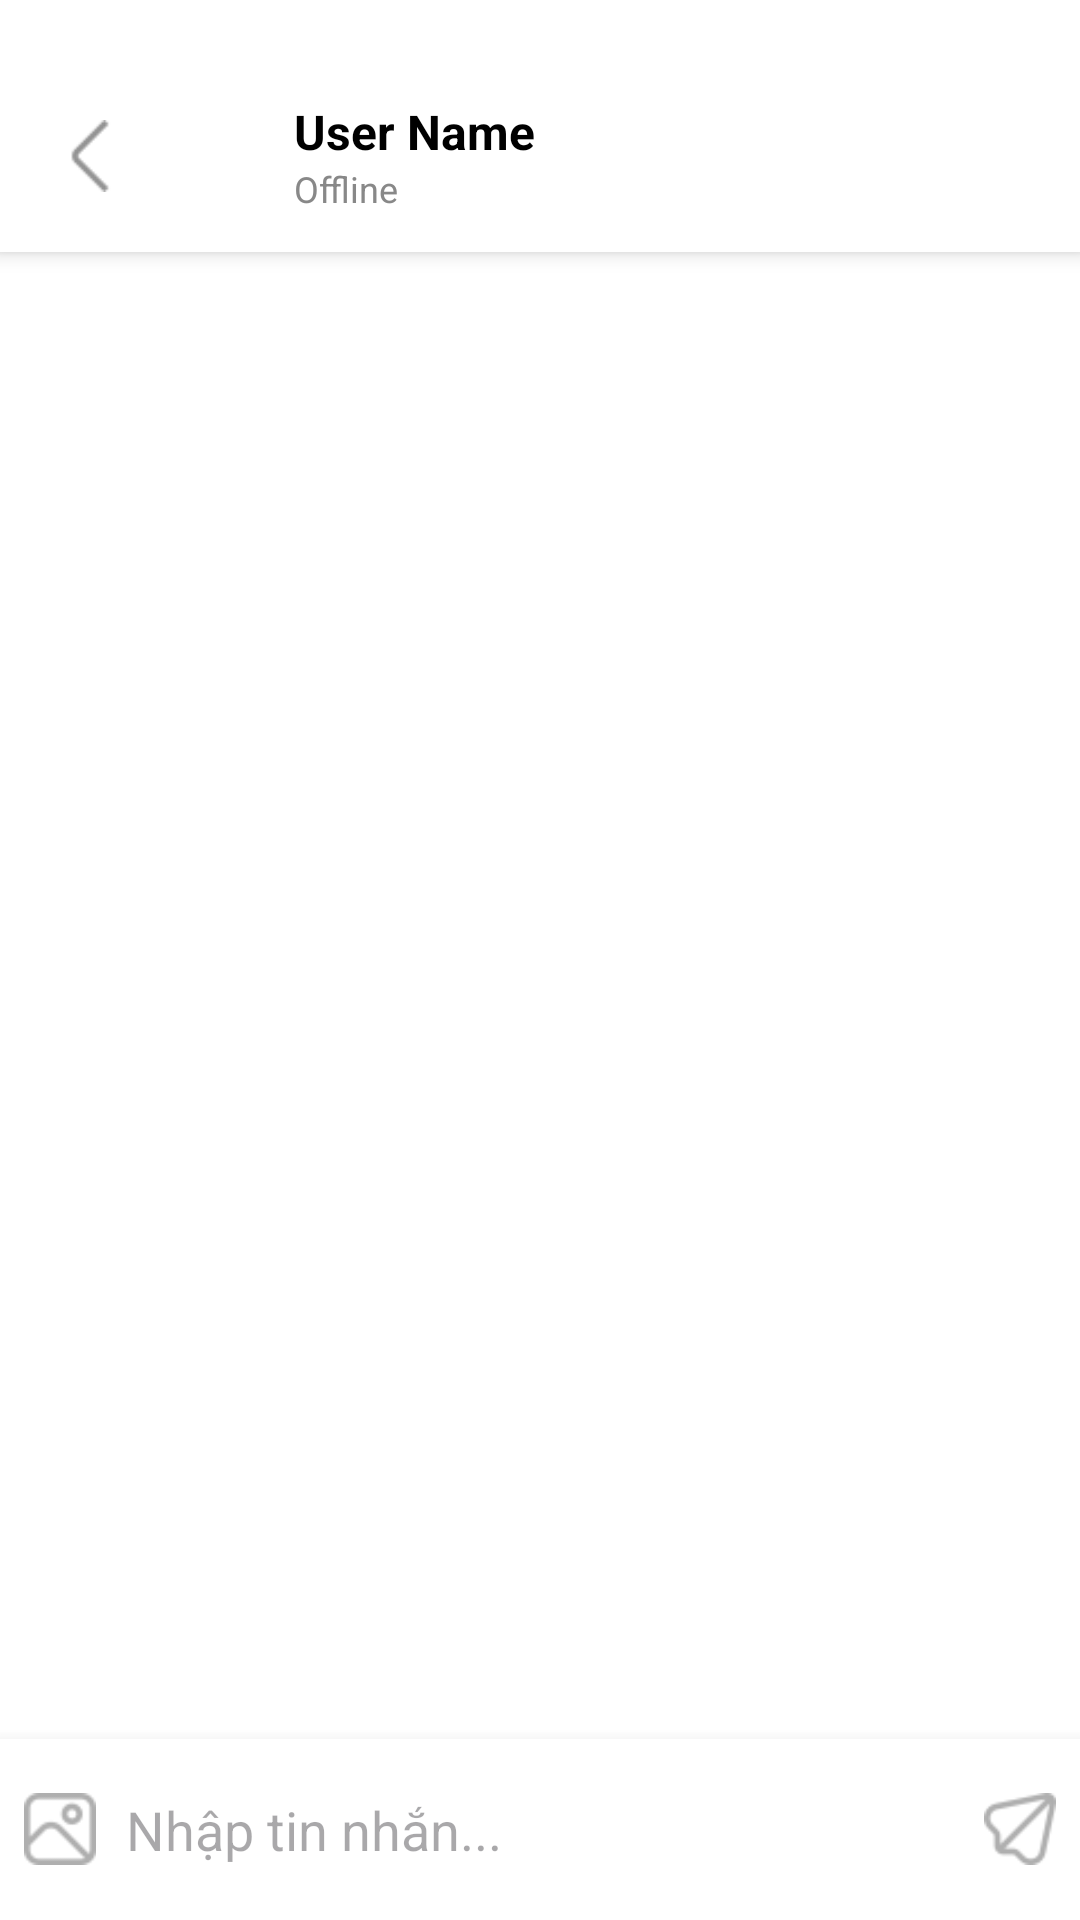

Point at icon controls on the screen. Image size 1080w x 1920h, points as (x=x, y=y).
back: (x=90, y=156)
send: (x=1020, y=1829)
